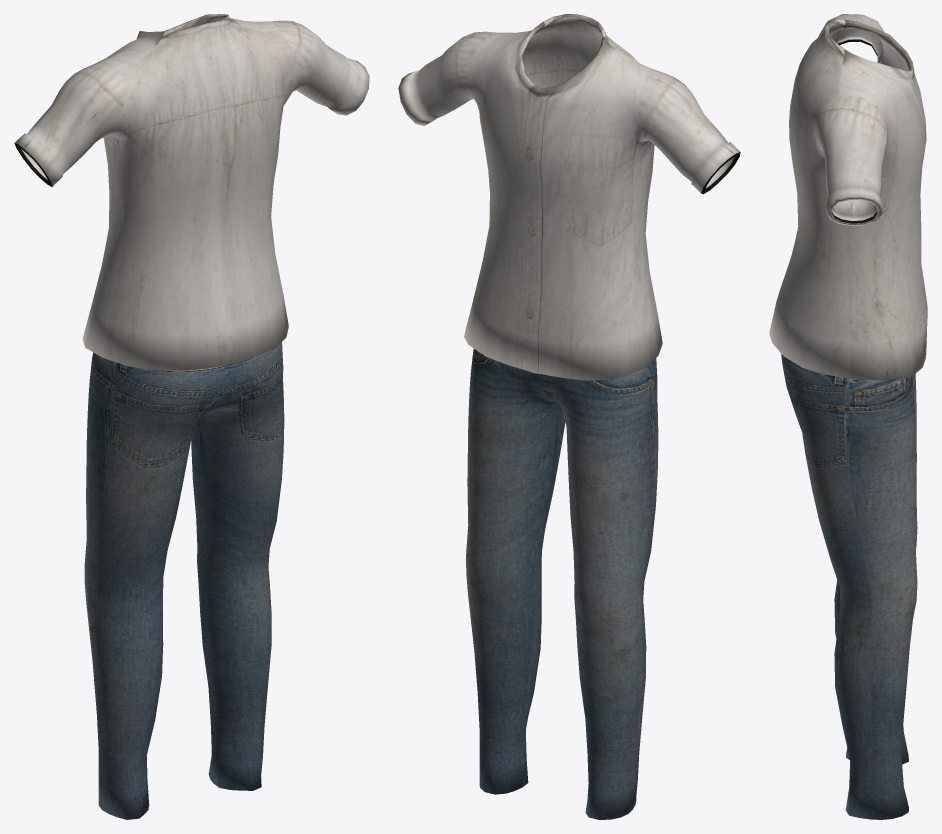
File: ROUPA_personagem.glb
3 renders of one model, left to right at view 1: azimuth 30°, elevation 25°; view 2: azimuth 150°, elevation 25°; view 3: azimuth 270°, elevation 25°, orthographic. The views are drawn at different scales.
Visible parts, largest first — view 1: Roupa.001, calca.001; view 2: Roupa.001, calca.001; view 3: Roupa.001, calca.001.
Part boxes in pixels (<box>): Roupa.001: <box>14,14,369,370</box>; calca.001: <box>84,342,284,819</box>; Roupa.001: <box>398,14,740,380</box>; calca.001: <box>466,348,658,819</box>; Roupa.001: <box>769,14,927,380</box>; calca.001: <box>781,354,917,819</box>.
Size of the model in its own units: 0.6279 by 1.39 by 0.2647.
Materials: 2 (2 with a texture image).
